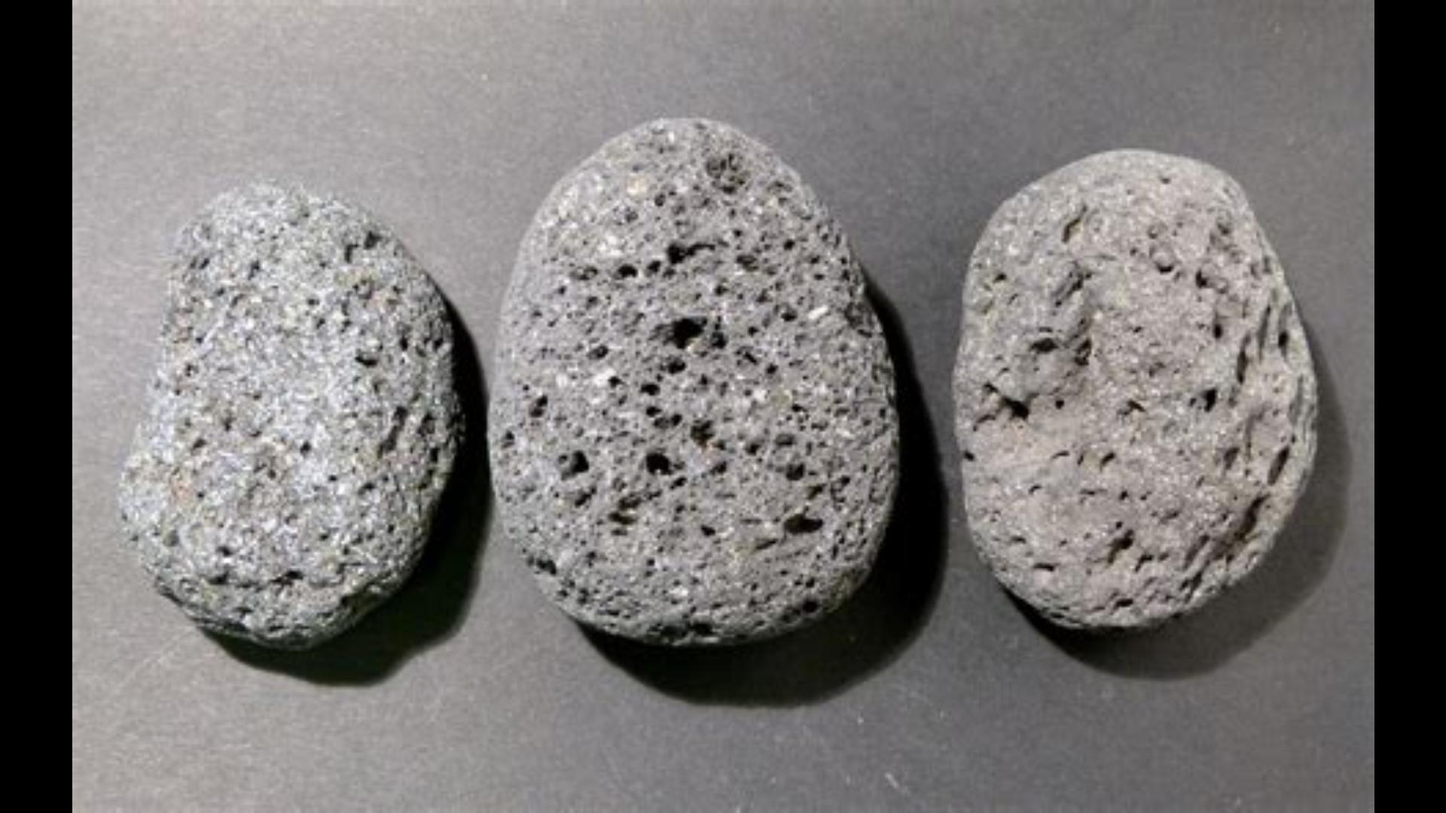rock: (495, 118, 893, 643), (951, 156, 1317, 627), (120, 183, 458, 641)
